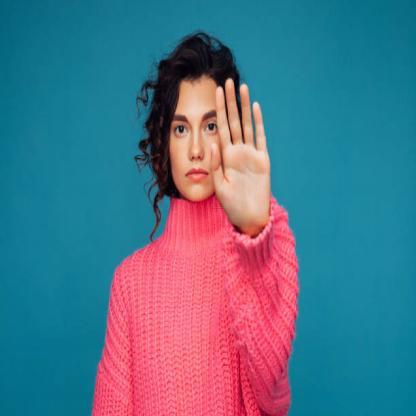stop: (208, 74, 276, 233)
